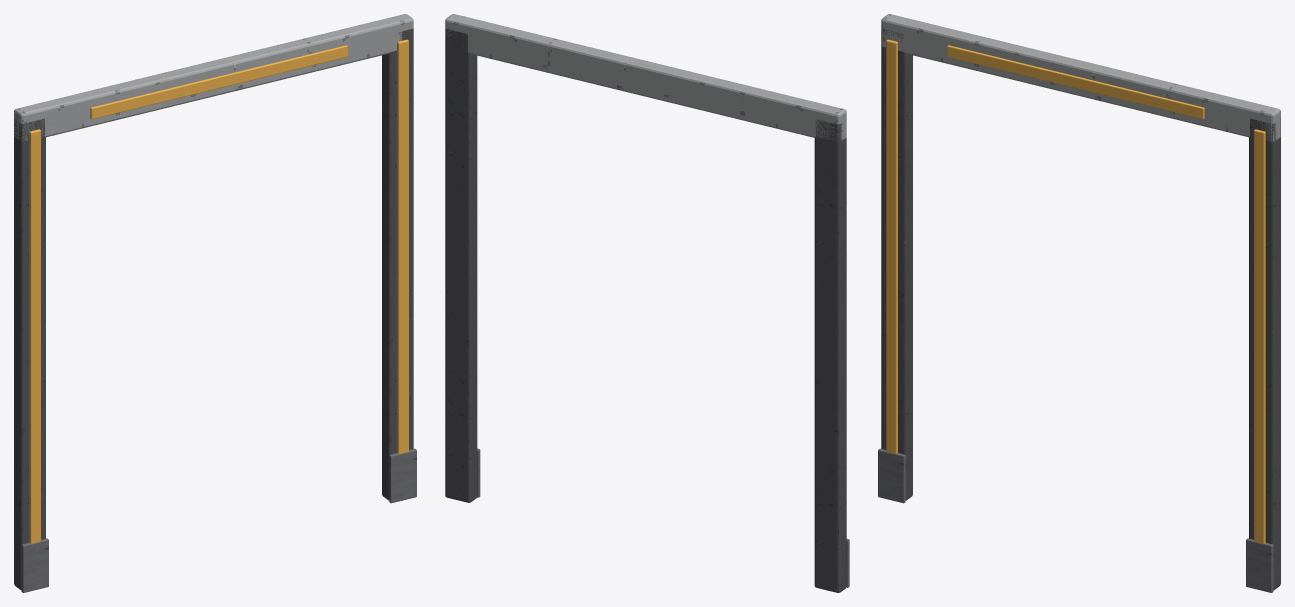
Rendered from lbd_entrance_surround.glb.
The picture shows the model from 3 angles, left to right: view 1: azimuth 30°, elevation 25°; view 2: azimuth 150°, elevation 25°; view 3: azimuth 330°, elevation 25°; orthographic projection.
Parts seen in each view (by area): view 1: entrance_surround__lintel_021, entrance_surround__jamb_003, entrance_surround__jamb_012, entrance_surround__painted jamb_006, entrance_surround__painted jamb_015, entrance_surround__accent_024, entrance_surround__kick plate_009, entrance_surround__kick plate_018; view 2: entrance_surround__jamb_003, entrance_surround__jamb_012, entrance_surround__lintel_021; view 3: entrance_surround__lintel_021, entrance_surround__jamb_012, entrance_surround__jamb_003, entrance_surround__painted jamb_015, entrance_surround__painted jamb_006, entrance_surround__accent_024, entrance_surround__kick plate_018, entrance_surround__kick plate_009.
Boxes of the visible parts, x1=… form: entrance_surround__lintel_021: x1=14, y1=14, x2=413, y2=141; entrance_surround__jamb_003: x1=14, y1=118, x2=45, y2=589; entrance_surround__jamb_012: x1=382, y1=28, x2=413, y2=500; entrance_surround__painted jamb_006: x1=29, y1=129, x2=40, y2=543; entrance_surround__painted jamb_015: x1=397, y1=39, x2=408, y2=453; entrance_surround__accent_024: x1=90, y1=45, x2=347, y2=119; entrance_surround__kick plate_009: x1=21, y1=538, x2=48, y2=592; entrance_surround__kick plate_018: x1=389, y1=448, x2=416, y2=503; entrance_surround__jamb_003: x1=814, y1=119, x2=846, y2=592; entrance_surround__jamb_012: x1=445, y1=28, x2=477, y2=502; entrance_surround__lintel_021: x1=445, y1=14, x2=846, y2=142; entrance_surround__lintel_021: x1=881, y1=14, x2=1280, y2=141; entrance_surround__jamb_012: x1=1249, y1=118, x2=1280, y2=589; entrance_surround__jamb_003: x1=881, y1=28, x2=912, y2=500; entrance_surround__painted jamb_015: x1=1254, y1=129, x2=1265, y2=543; entrance_surround__painted jamb_006: x1=886, y1=39, x2=897, y2=453; entrance_surround__accent_024: x1=947, y1=45, x2=1204, y2=119; entrance_surround__kick plate_018: x1=1246, y1=538, x2=1273, y2=592; entrance_surround__kick plate_009: x1=878, y1=448, x2=905, y2=503.
Bounding box in the file's own units: 2.76 × 3.2 × 0.1255.
4 materials, 3 textured.
